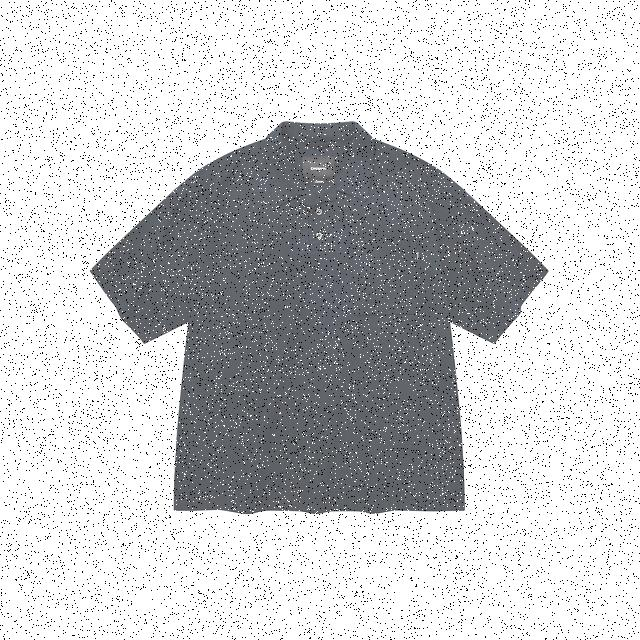dress: (93, 122, 541, 513)
